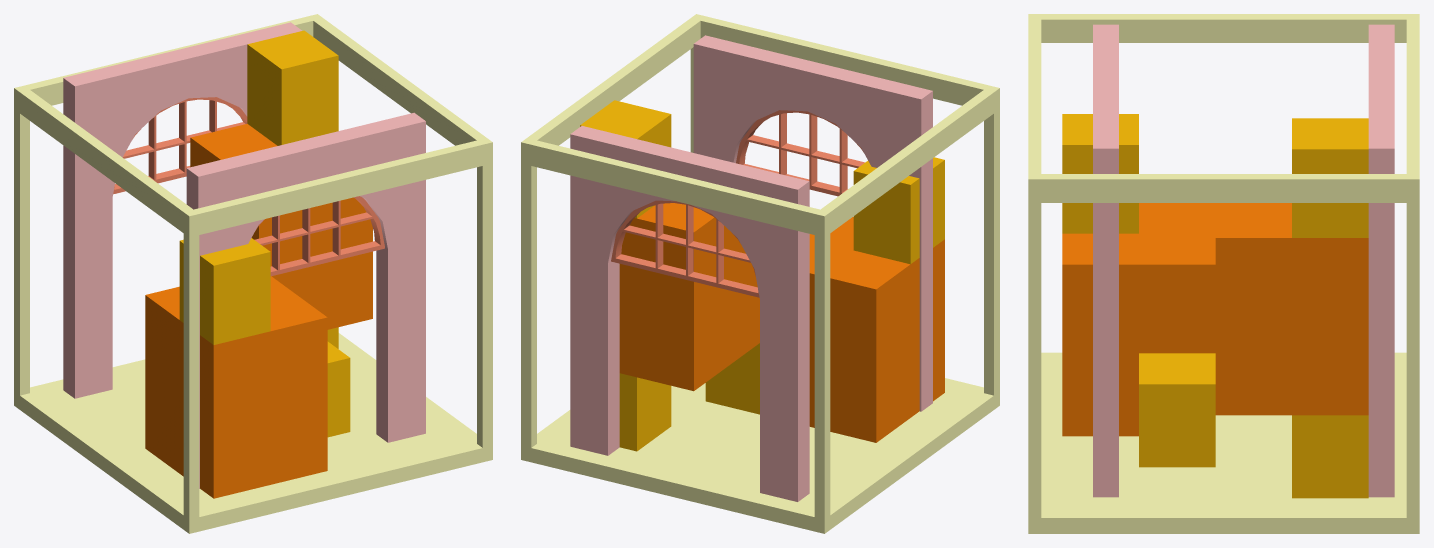
3 views of the same model, side by side, from view 1: azimuth 30°, elevation 25°; view 2: azimuth 150°, elevation 25°; view 3: azimuth 270°, elevation 25° (orthographic). The views are drawn at different scales.
Parts seen in each view (by area): view 1: 物件_15, 物件_21, 物件_8, 物件_1, 物件_19, 物件_20, 物件_28, 物件_16, 物件_26, 物件_24, 物件_29, 物件_22 (+6 smaller); view 2: 物件_1, 物件_21, 物件_8, 物件_15, 物件_19, 物件_27, 物件_28, 物件_16, 物件_26, 物件_25, 物件_29, 物件_23 (+10 smaller); view 3: 物件_21, 物件_19, 物件_15, 物件_1, 物件_8, 物件_29, 物件_26, 物件_17, 物件_20, 物件_18, 物件_22, 物件_23 (+3 smaller).
Part boxes in pixels (x1,y1,x2,y2): 物件_15: (145,276,327,498); 物件_21: (14,333,492,533); 物件_8: (186,112,425,488); 物件_1: (63,22,301,398); 物件_19: (190,123,372,329); 物件_20: (247,30,338,145); 物件_28: (183,138,492,234); 物件_16: (179,238,270,344); 物件_26: (14,89,198,235); 物件_24: (183,210,199,519); 物件_29: (309,14,492,163); 物件_22: (477,138,492,447); 物件_1: (570,126,809,501); 物件_21: (521,378,999,533); 物件_8: (693,35,932,411); 物件_15: (809,217,944,442); 物件_19: (619,203,759,391); 物件_27: (521,139,829,235); 物件_28: (693,15,999,105); 物件_16: (853,157,944,264); 物件_26: (814,86,999,236); 物件_25: (814,211,830,519); 物件_29: (521,15,703,163); 物件_23: (521,138,536,447); 物件_21: (1028,352,1419,533); 物件_19: (1215,203,1368,415); 物件_15: (1062,203,1215,436); 物件_1: (1368,24,1394,497); 物件_8: (1093,24,1118,497); 物件_29: (1029,174,1419,202); 物件_26: (1029,14,1419,42); 物件_17: (1139,353,1215,467); 物件_20: (1292,118,1368,237); 物件_18: (1292,415,1368,498); 物件_22: (1028,174,1041,517); 物件_23: (1406,174,1419,517).
Size of the model in its own units: 48 by 49.38 by 48.
